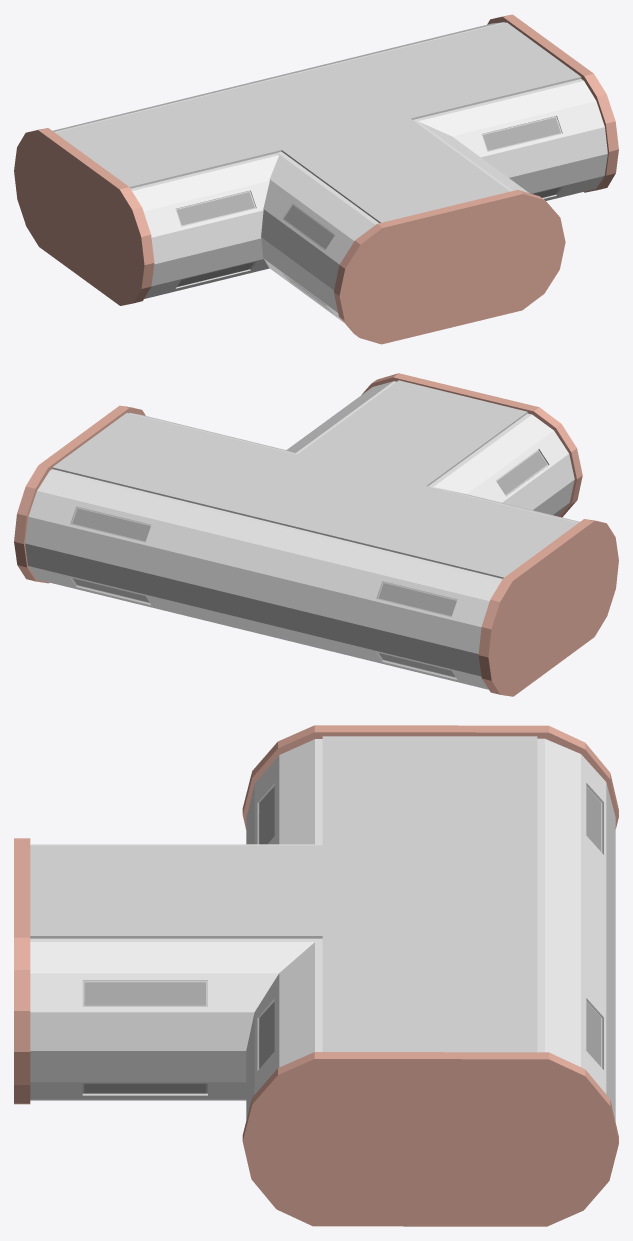
The picture shows the model from 3 angles, top to bottom: view 1: azimuth 30°, elevation 25°; view 2: azimuth 150°, elevation 25°; view 3: azimuth 270°, elevation 25°; orthographic projection. The views are drawn at different scales.
Visible parts, largest first — view 1: Cylinder_12; view 2: Cylinder_12; view 3: Cylinder_12.
Part boxes in pixels (x1,y1,x2,y2): Cylinder_12: [14, 14, 618, 344]; Cylinder_12: [14, 373, 618, 696]; Cylinder_12: [14, 725, 618, 1226].
Bounding box in the file's own units: 1261 × 298 × 966.
